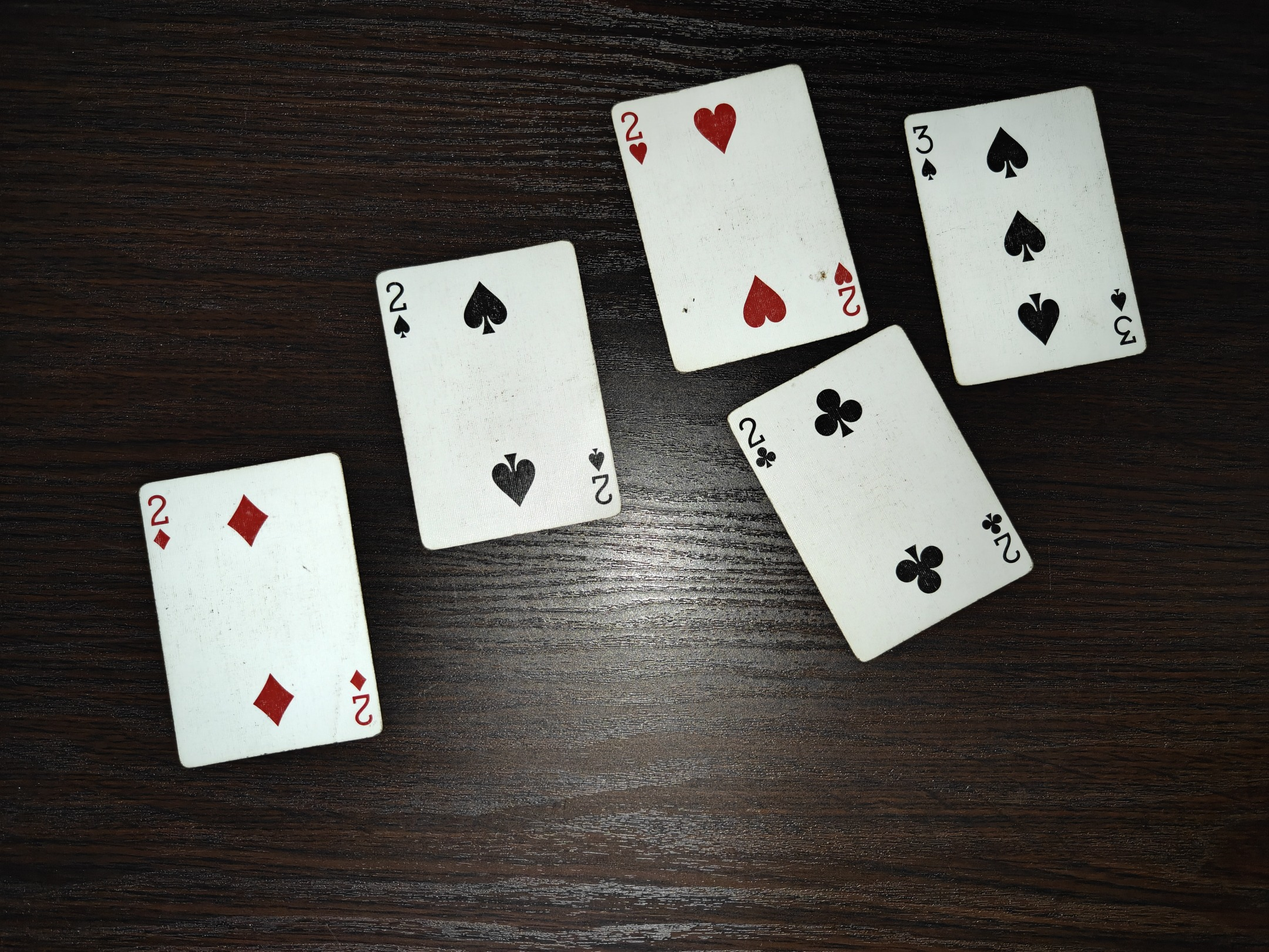2C: (728, 324, 1035, 663)
2D: (138, 450, 383, 768)
2H: (611, 61, 869, 372)
2S: (376, 240, 622, 551)
3S: (903, 84, 1150, 386)
